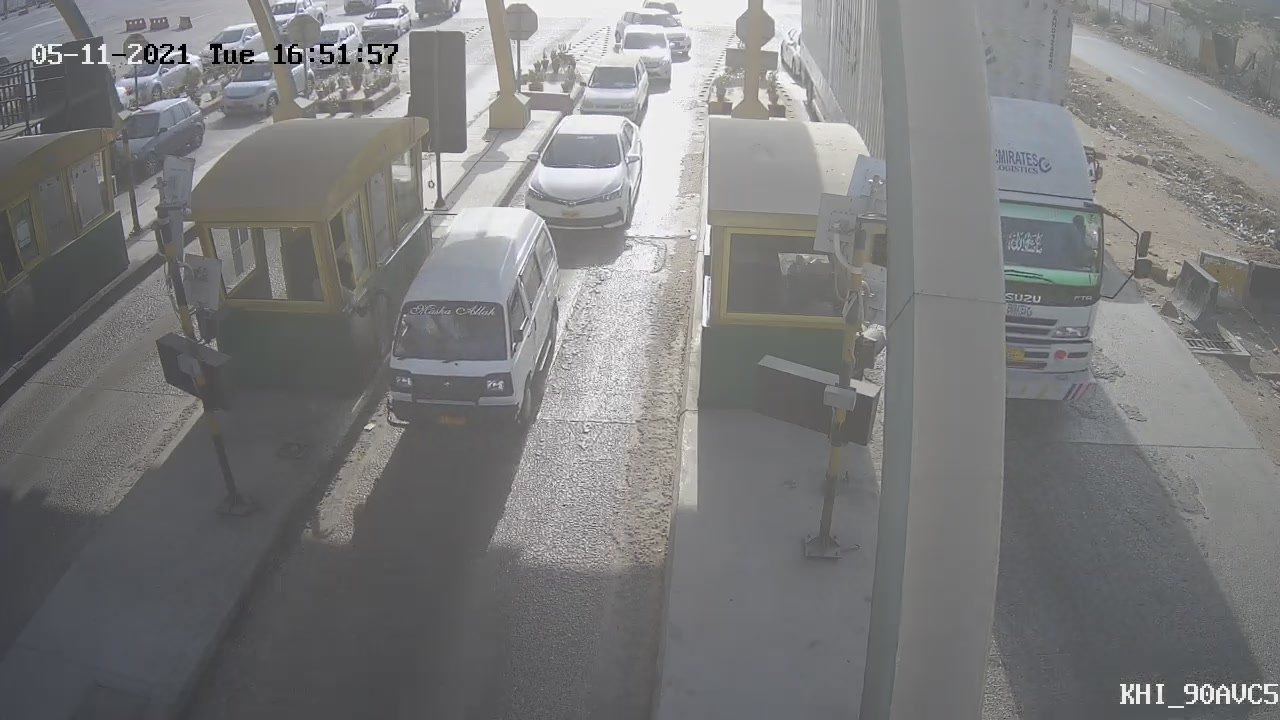F1: (363, 194, 578, 455), (504, 98, 659, 253), (561, 44, 663, 133)
